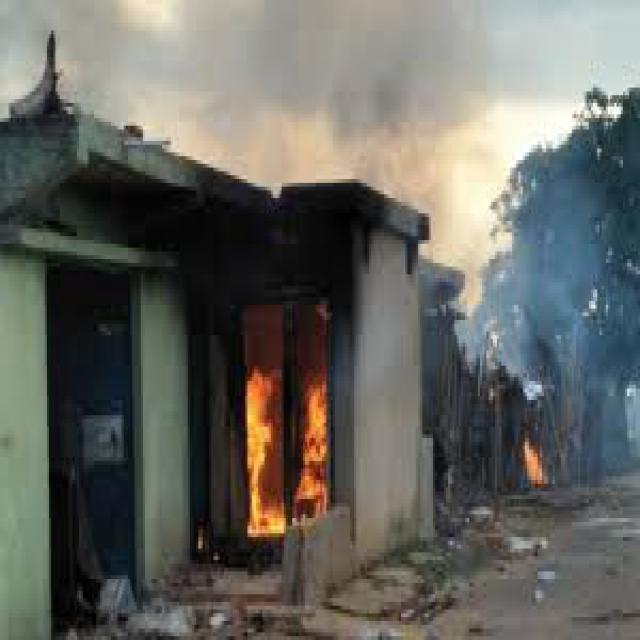Fire: (225, 343, 342, 550), (514, 436, 556, 494)
Smoke: (75, 0, 497, 172), (478, 205, 608, 423)
